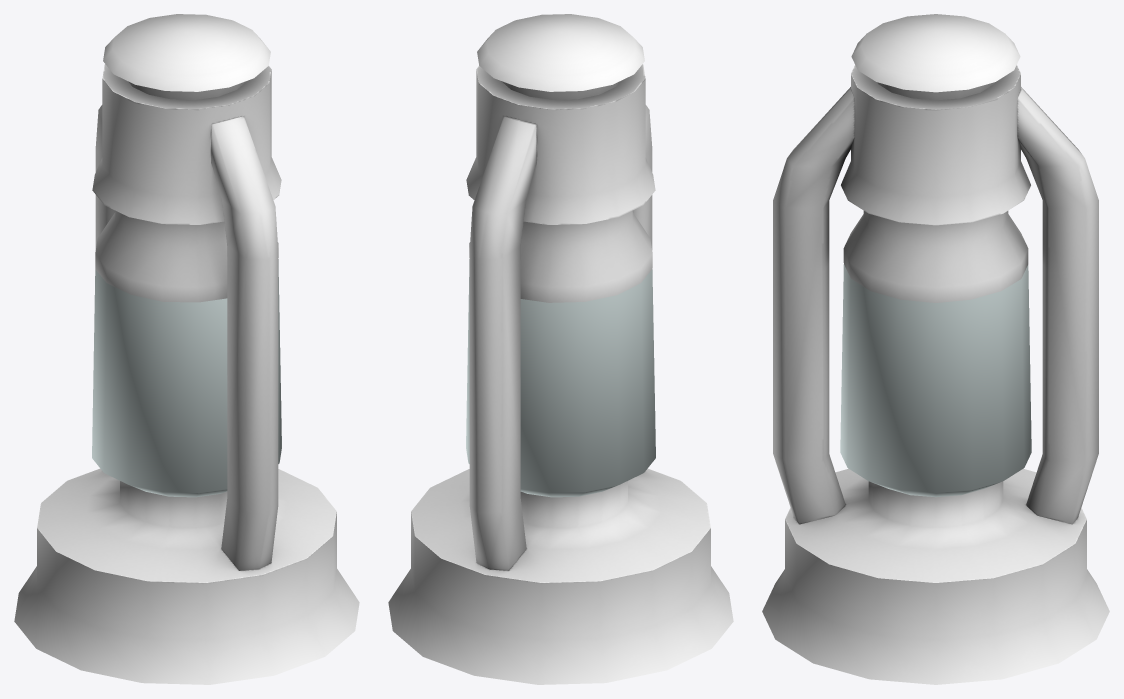
File: LanternCorrected.fbx
3 views of the same model, side by side, from view 1: azimuth 30°, elevation 25°; view 2: azimuth 150°, elevation 25°; view 3: azimuth 270°, elevation 25° (orthographic).
Visible parts, largest first — view 1: LanternCorrected; view 2: LanternCorrected; view 3: LanternCorrected.
Boxes of the visible parts, bbox=[...] form: LanternCorrected: bbox=[14, 14, 359, 684]; LanternCorrected: bbox=[388, 14, 733, 684]; LanternCorrected: bbox=[762, 14, 1109, 684].
Bounding box in the file's own units: 200 × 200 × 367.
